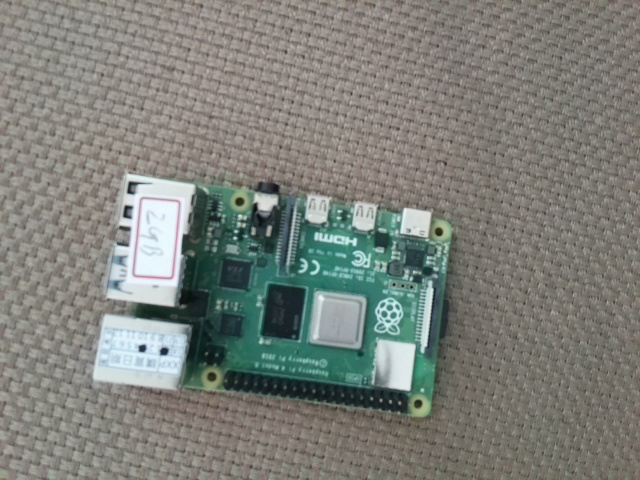Pi4: (88, 168, 459, 422)
